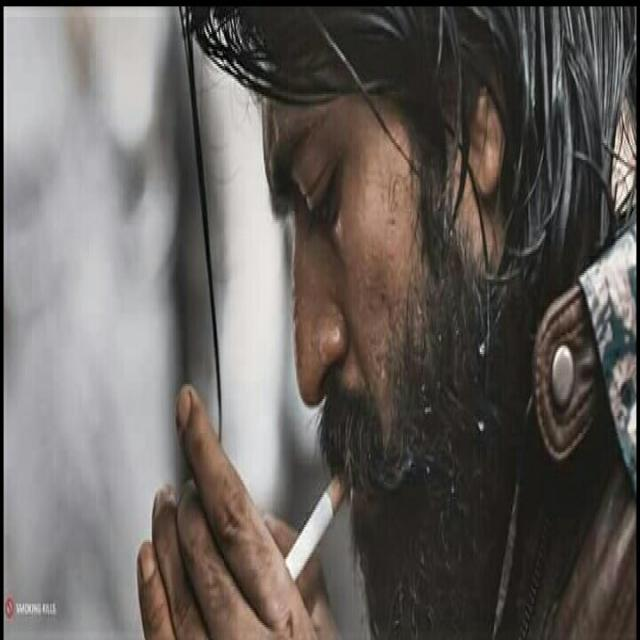smoke: (286, 468, 347, 598)
